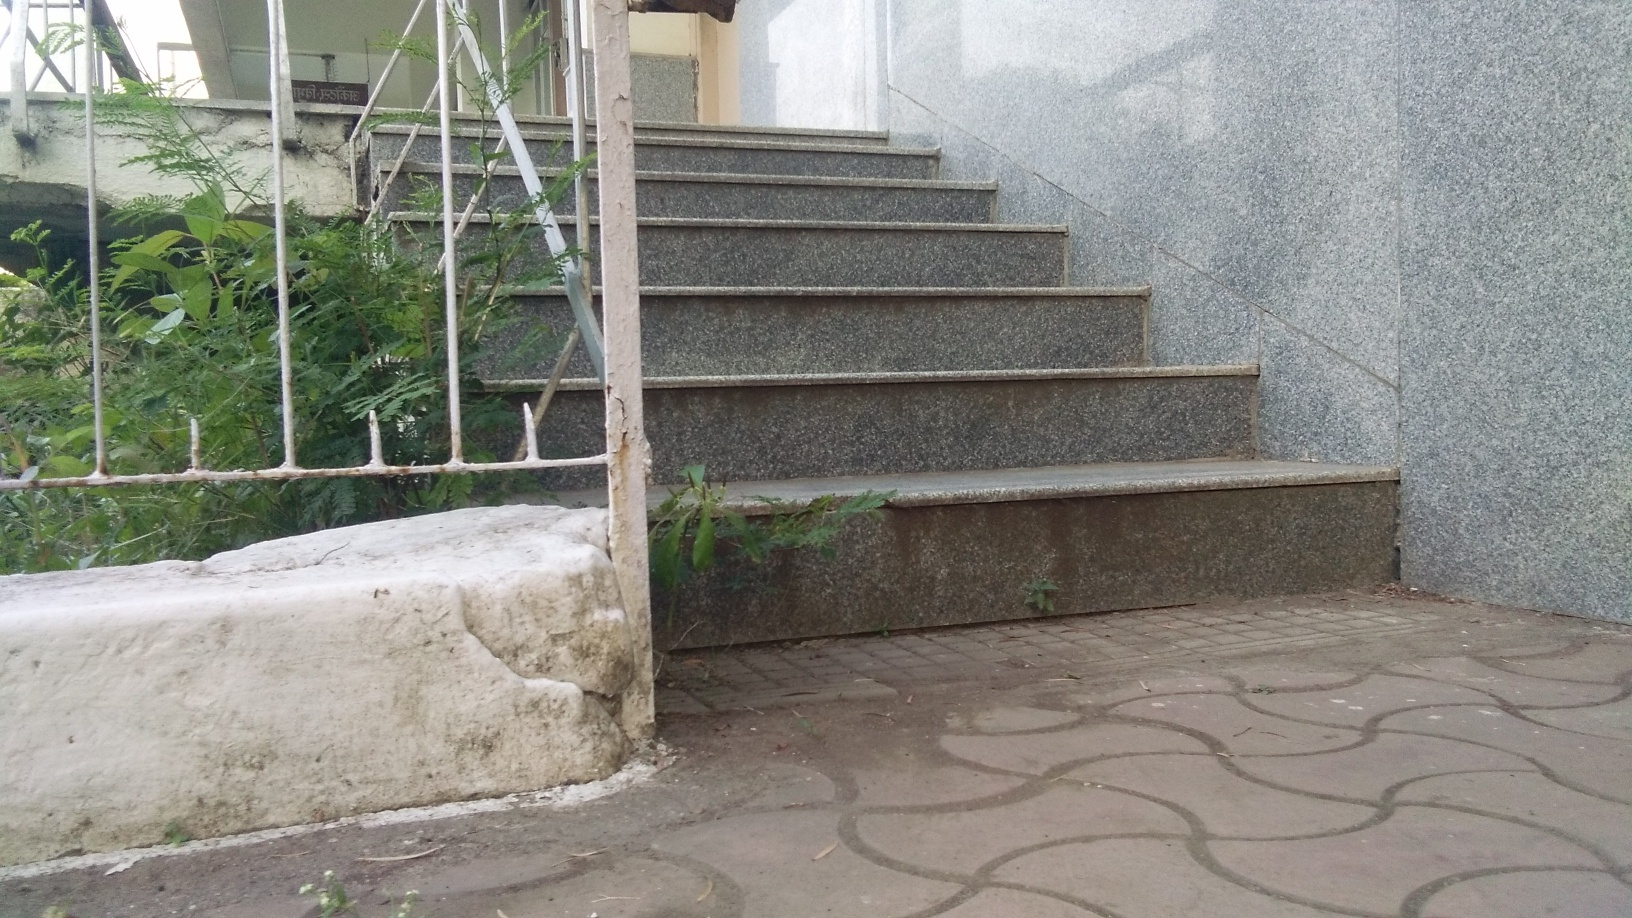stairs_up: (638, 98, 1444, 652)
